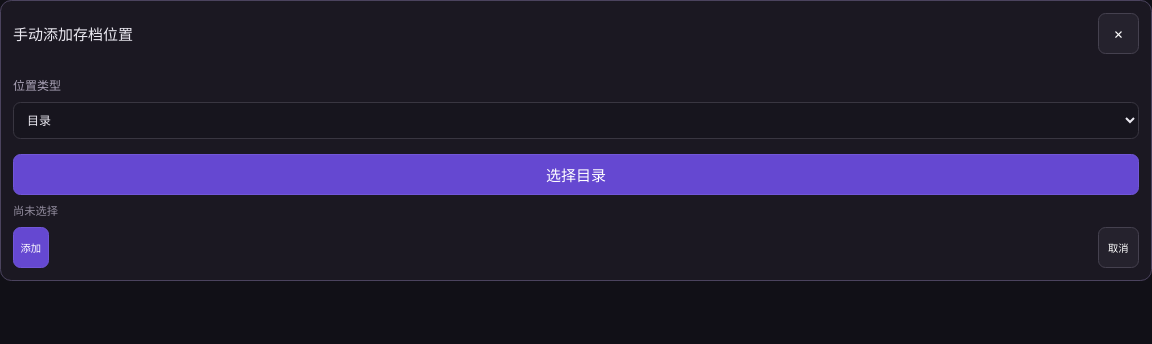
AddSaveLocationDialog › validates registry root syntax before submitting
Select "注册表偏好数据" in the dropdown with test id "save-kind" at (576, 121), box x1=13 y1=102 x2=1139 y2=139
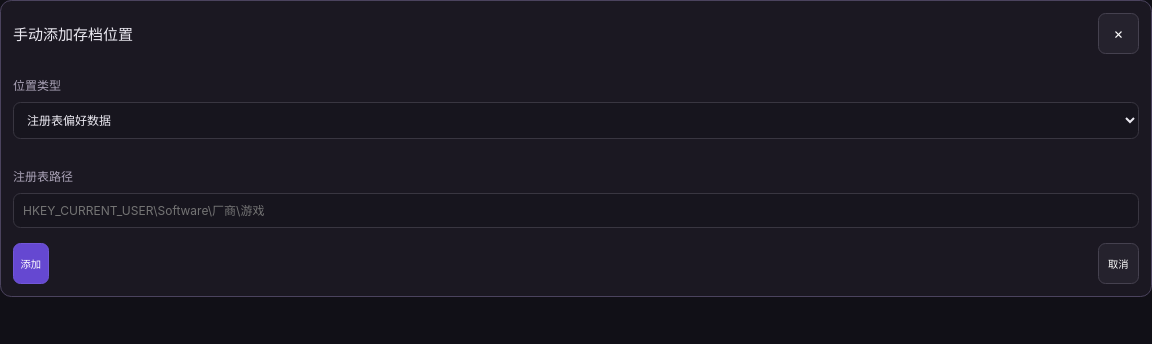
Type "Software\\Studio" into the field with test id "registry-path" at (576, 211), box x1=13 y1=193 x2=1139 y2=228
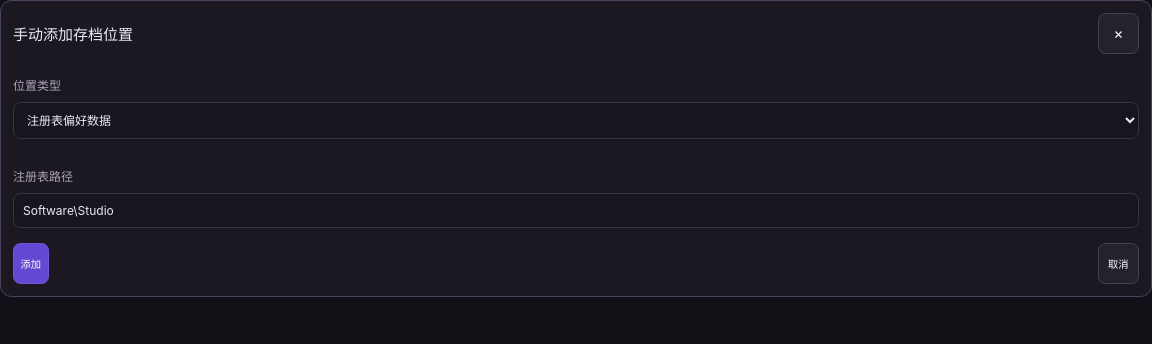
Submit the form
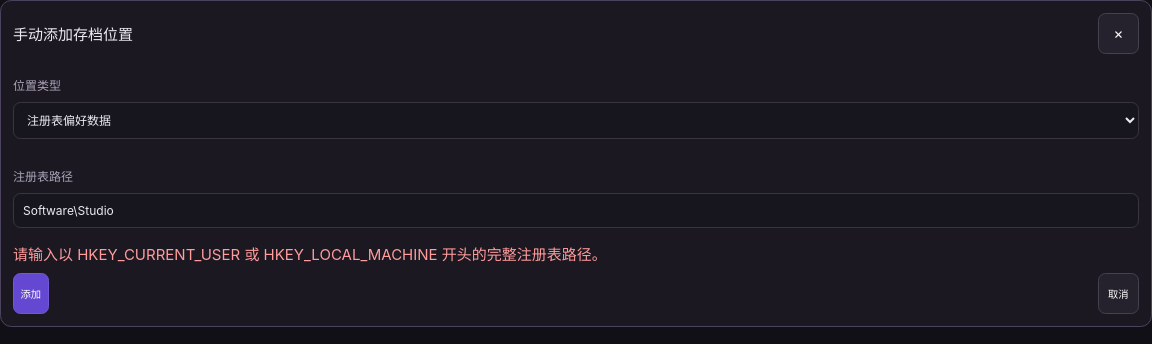
Expected: the text "HKEY_CURRENT_USER" is shown, x1=13 y1=245 x2=607 y2=264
